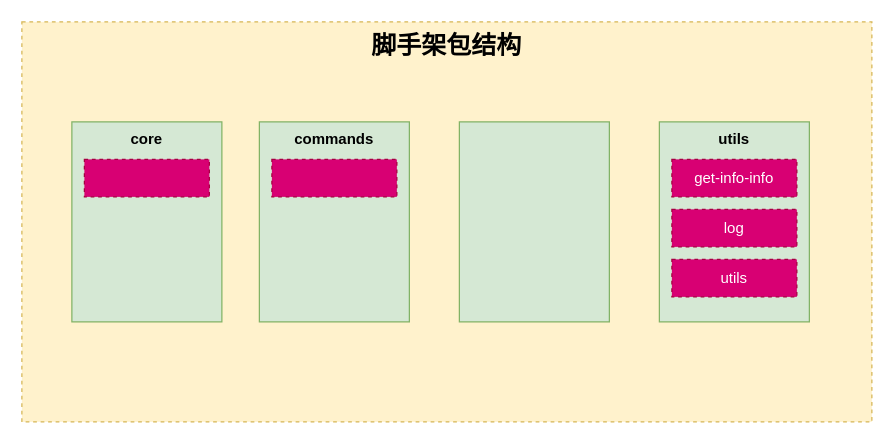
Image size: 894x444. Some labels were removed from this diagram. Here are the shapes that lost their labels. From the top down, the centre of each, then its label:
At (x=146, y=177): "cli".
At (x=334, y=177): "init".
At (x=533, y=221): "models".
